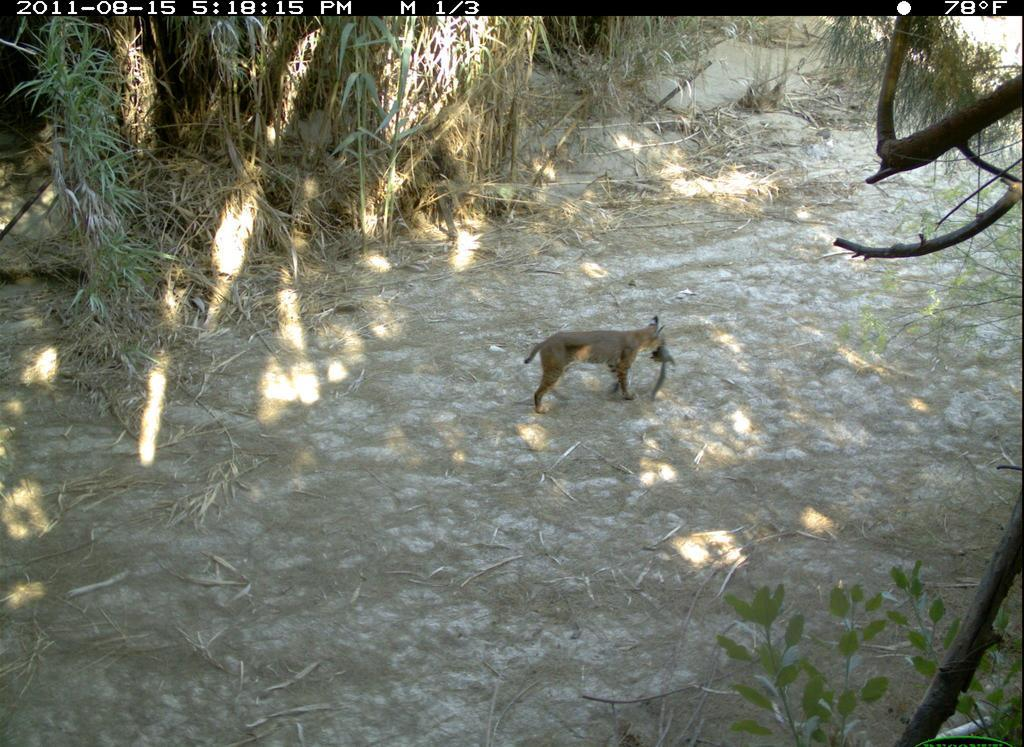bobcat: (518, 308, 698, 446)
